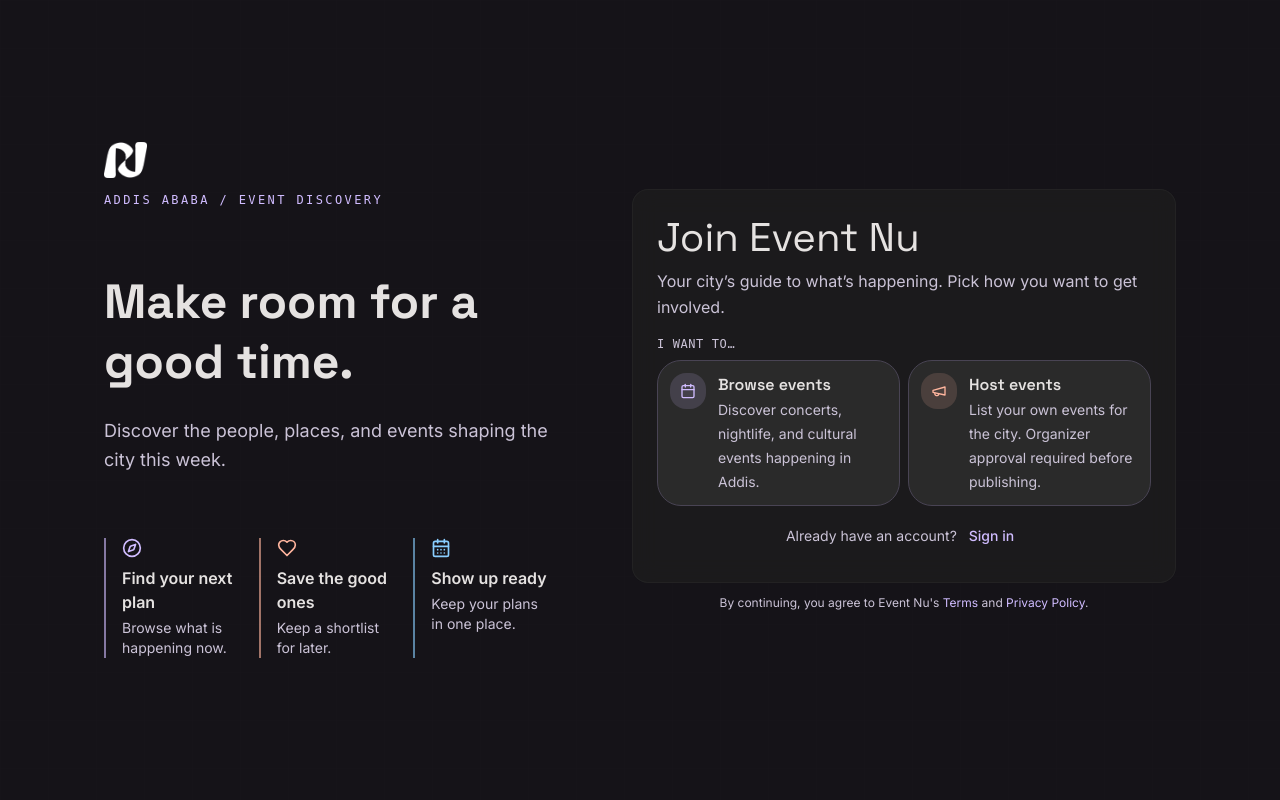
AuthPage — Functional Tests › view transitions › navigates to signup when "Browse events" is clicked
The image size is (1280, 800).
Click the text "Browse events". click: (774,384)
box: [718,374,831,395]
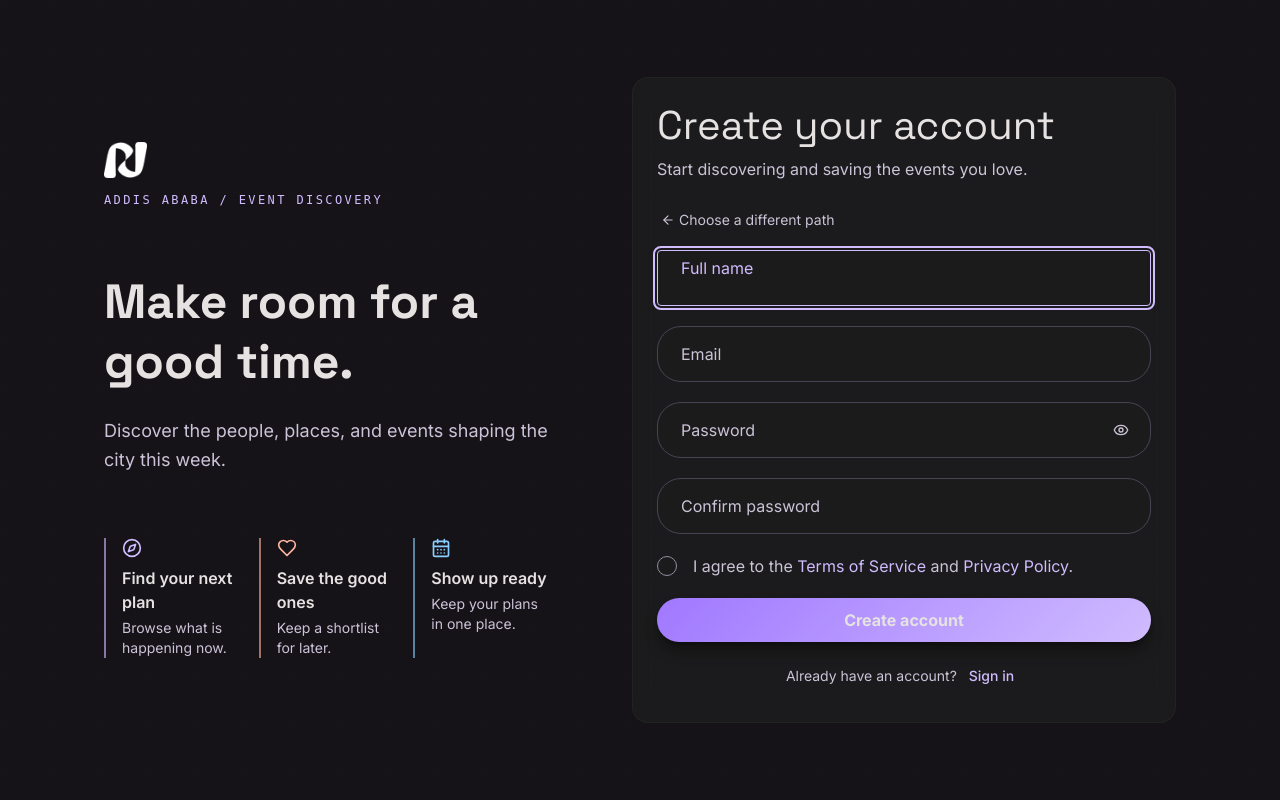
expect the heading "Create your account" is shown: met, box [657,100,1055,151]
expect the field labelled "Full name" is shown: met, box [657,250,1151,306]
